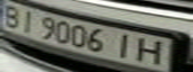0: (69, 22, 90, 50), (51, 18, 72, 45)
6: (87, 26, 109, 54)
9: (33, 12, 60, 41)
B: (0, 2, 27, 29)
H: (133, 36, 172, 65)
I: (112, 30, 139, 60), (15, 7, 42, 34)
